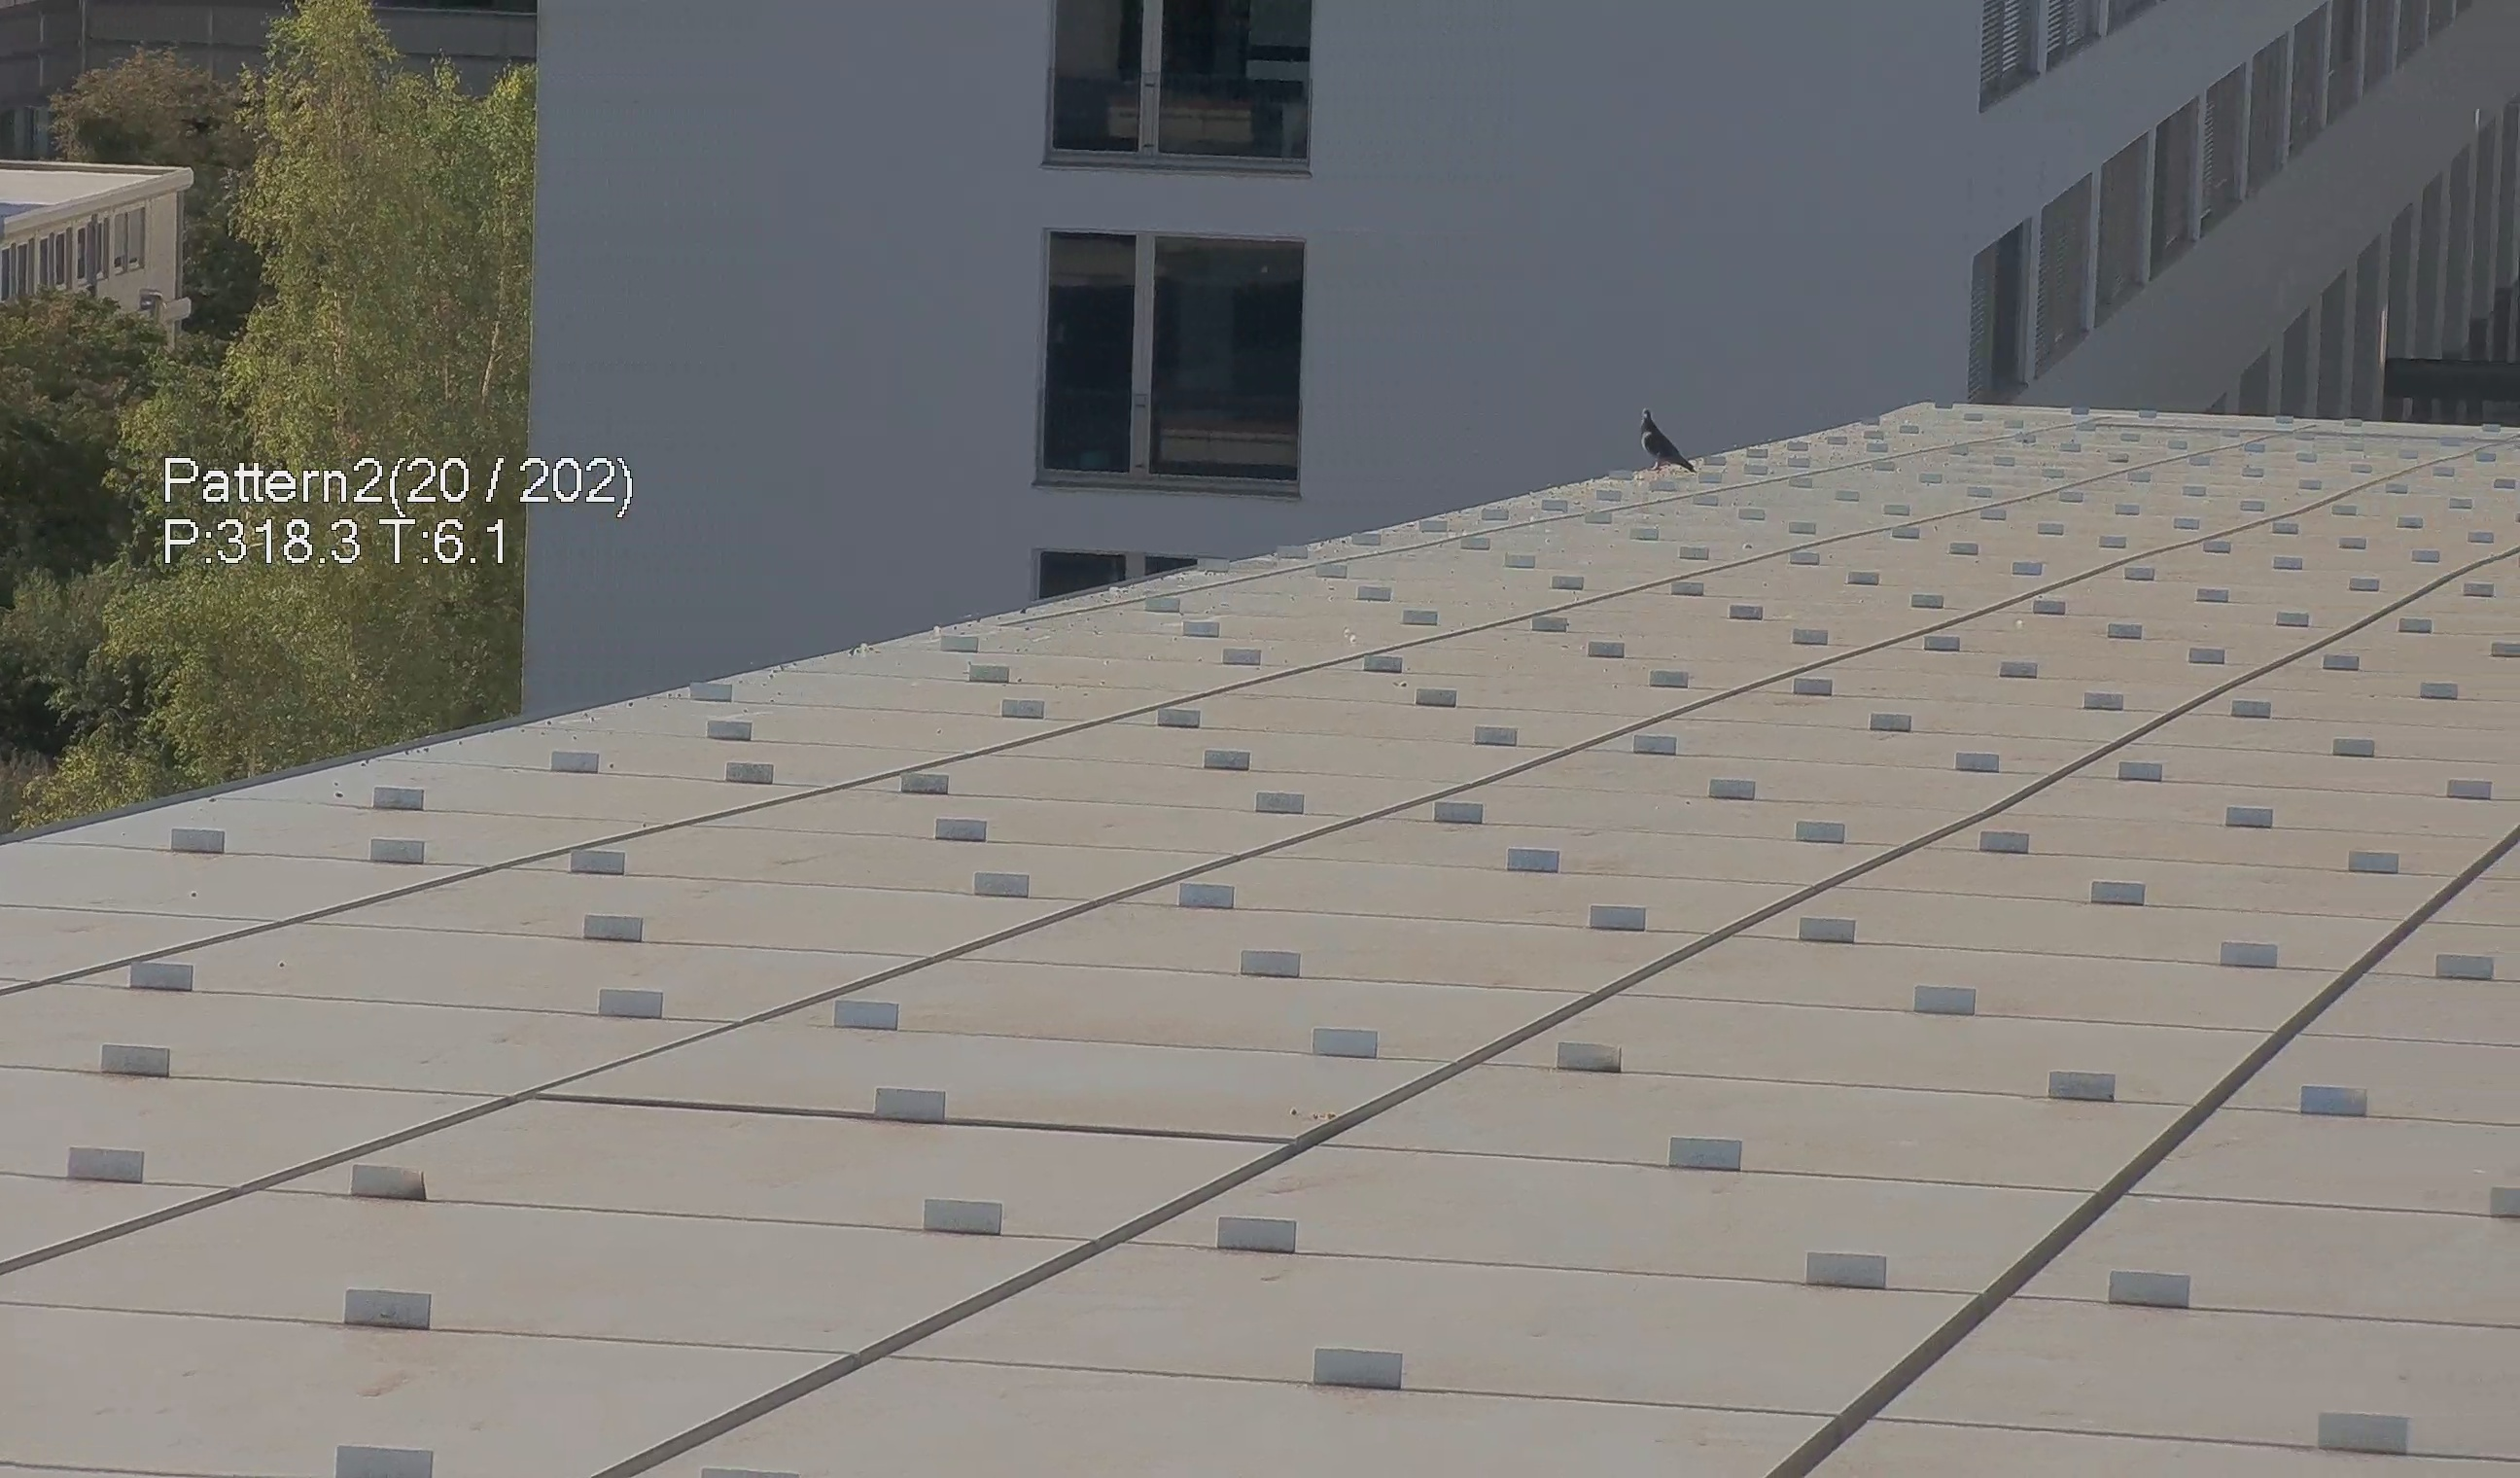Pigeon: (1623, 396, 1701, 479)
